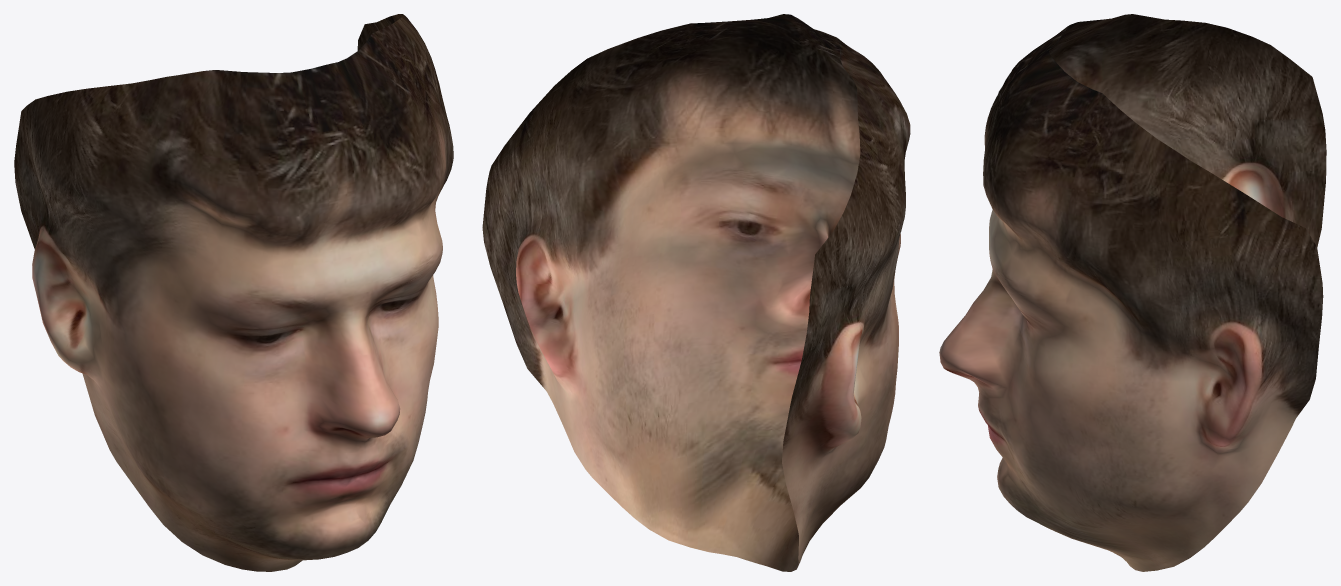
File: headScanLow.glb
3 renders of one model, left to right at view 1: azimuth 30°, elevation 25°; view 2: azimuth 150°, elevation 25°; view 3: azimuth 270°, elevation 25°, orthographic. The views are drawn at different scales.
Visible parts, largest first — view 1: Node; view 2: Node; view 3: Node.
Boxes of the visible parts, x1,y1,x2,y2 form: Node: (14, 14, 453, 571); Node: (482, 14, 910, 571); Node: (939, 14, 1326, 571).
Bounding box in the file's own units: 184 × 256 × 176.
Materials: 1 (1 with a texture image).
